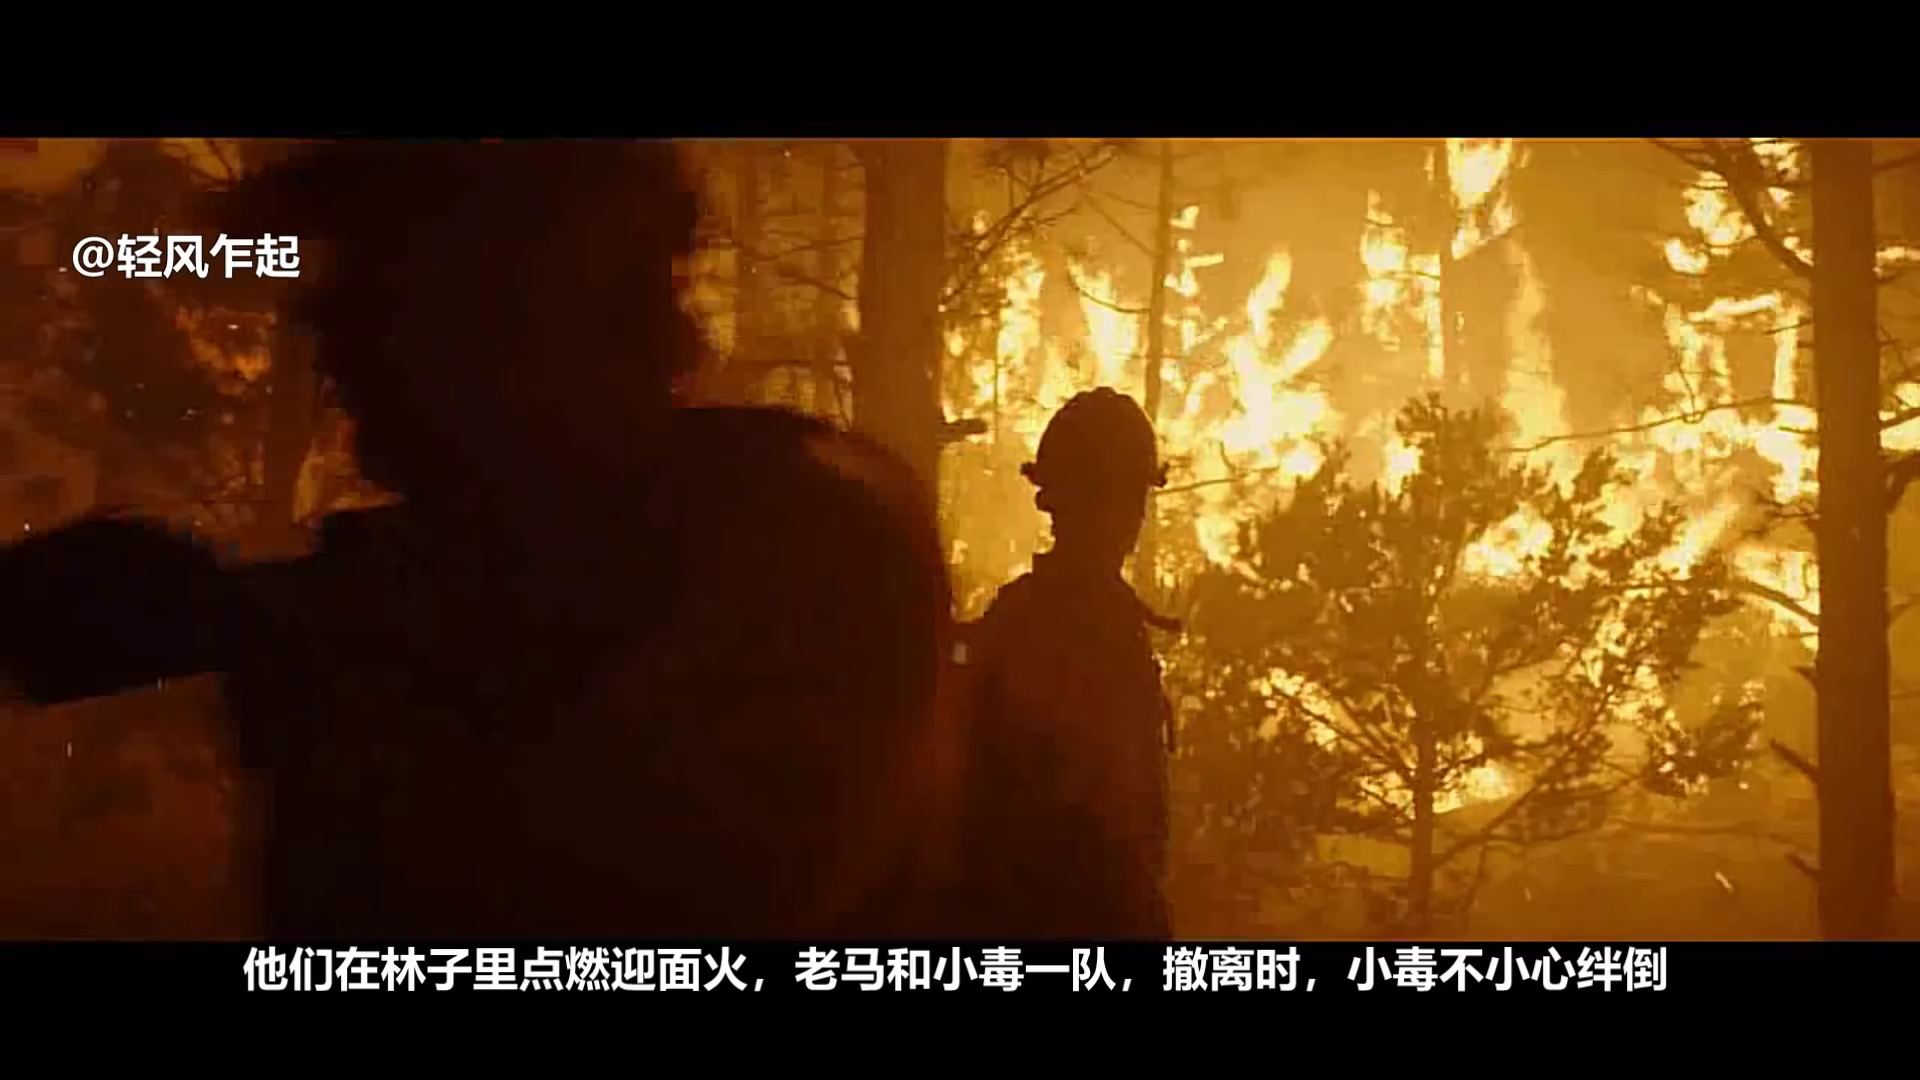fire: (1356, 156, 1565, 487), (1163, 255, 1329, 549), (1635, 286, 1807, 487), (967, 258, 1141, 447), (1662, 160, 1746, 269), (1466, 513, 1552, 574), (1883, 386, 1920, 462)
